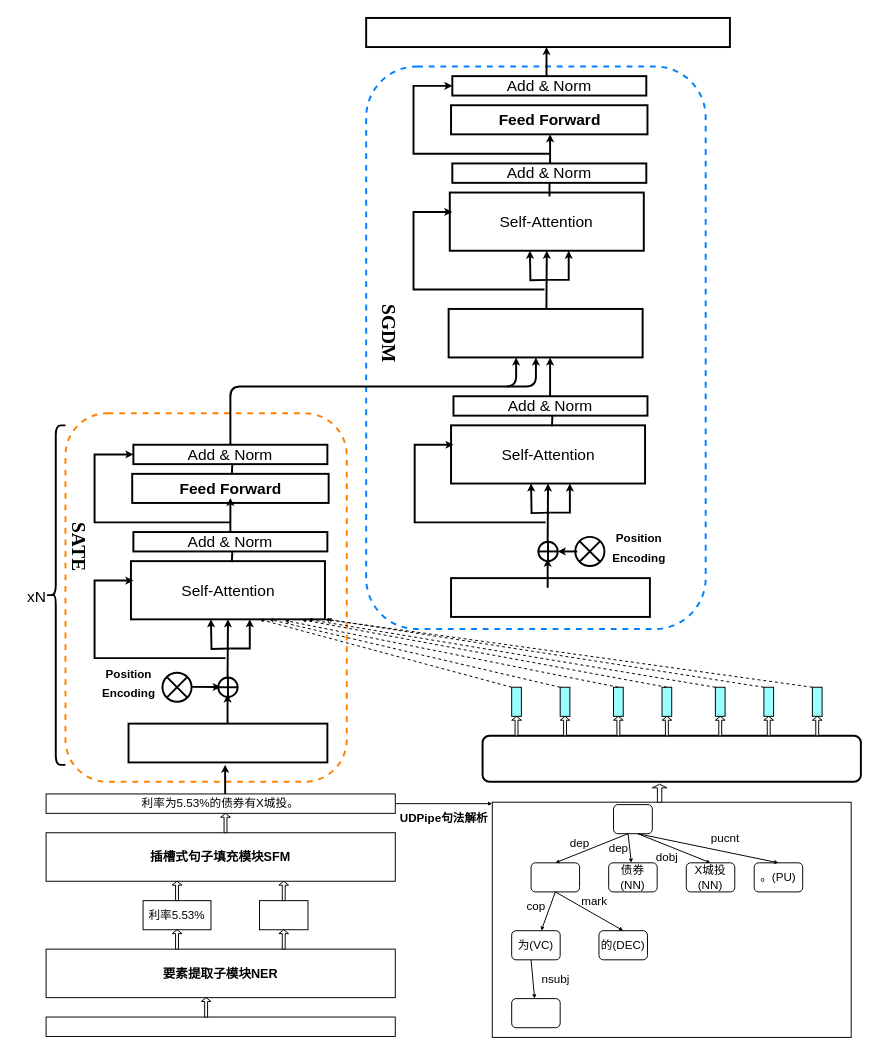
This 878x1054 diagram has some shape labels left out. The box of each missing label's shape, as (x1, y1, x2, y2) in pixels:
5.53%(PU): (530, 862, 580, 892)
Cross Self-Attention: (447, 307, 643, 358)
Input Embedding: (127, 722, 328, 763)
output Embedding: (450, 577, 650, 617)
债券: (259, 900, 308, 930)
利率(NN): (511, 998, 560, 1028)
句法依存的图注意力神经网络编码层 SATE: (481, 734, 861, 782)
您好，我们这里利率为5.53%的债券有X城投，请问有需要吗？: (365, 16, 730, 48)
有(VE): (613, 804, 652, 834)
请问有利率5.53%的债券吗？: (45, 1016, 395, 1036)
